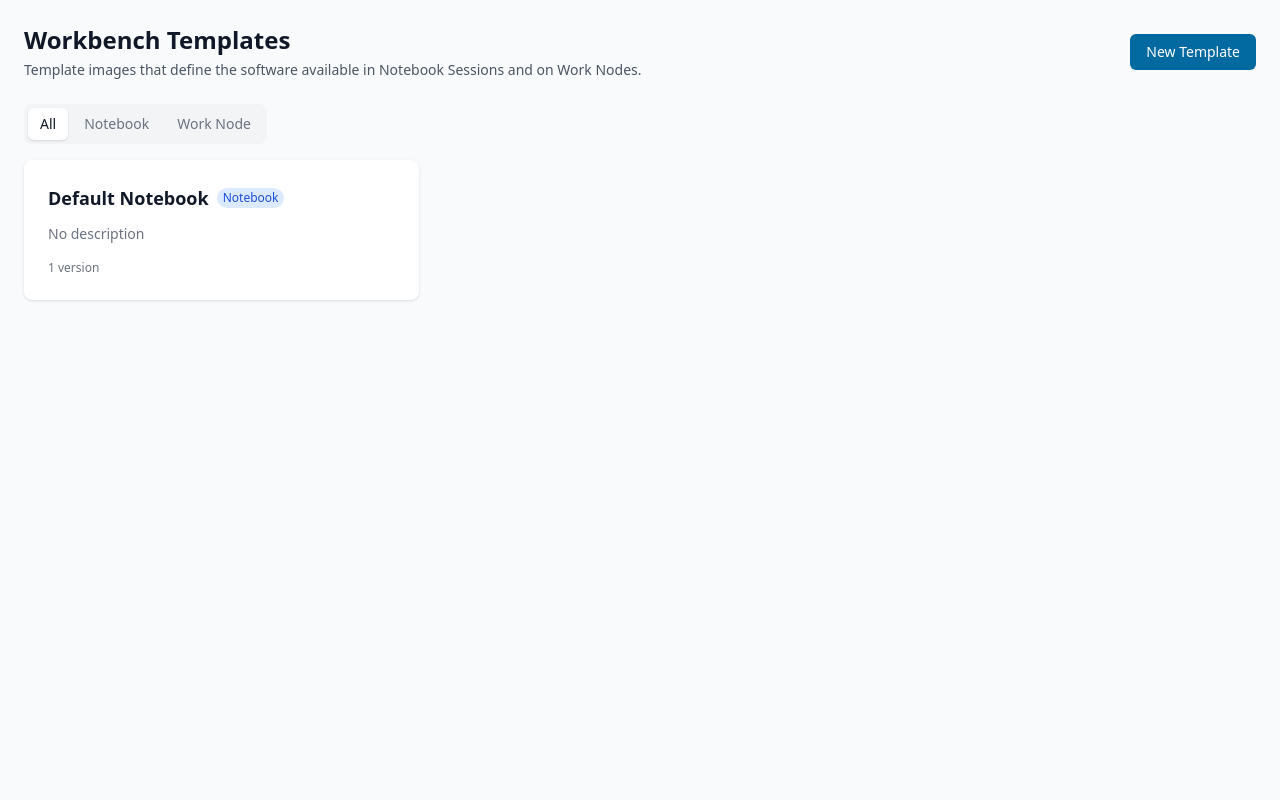
Test: Workbench EnvironmentsPage rebuild when the template cannot be read › a template that really did change still reads as changed, and builds
Step 1. Click the heading "Default Notebook" → (128, 198), box [48,184,209,212]
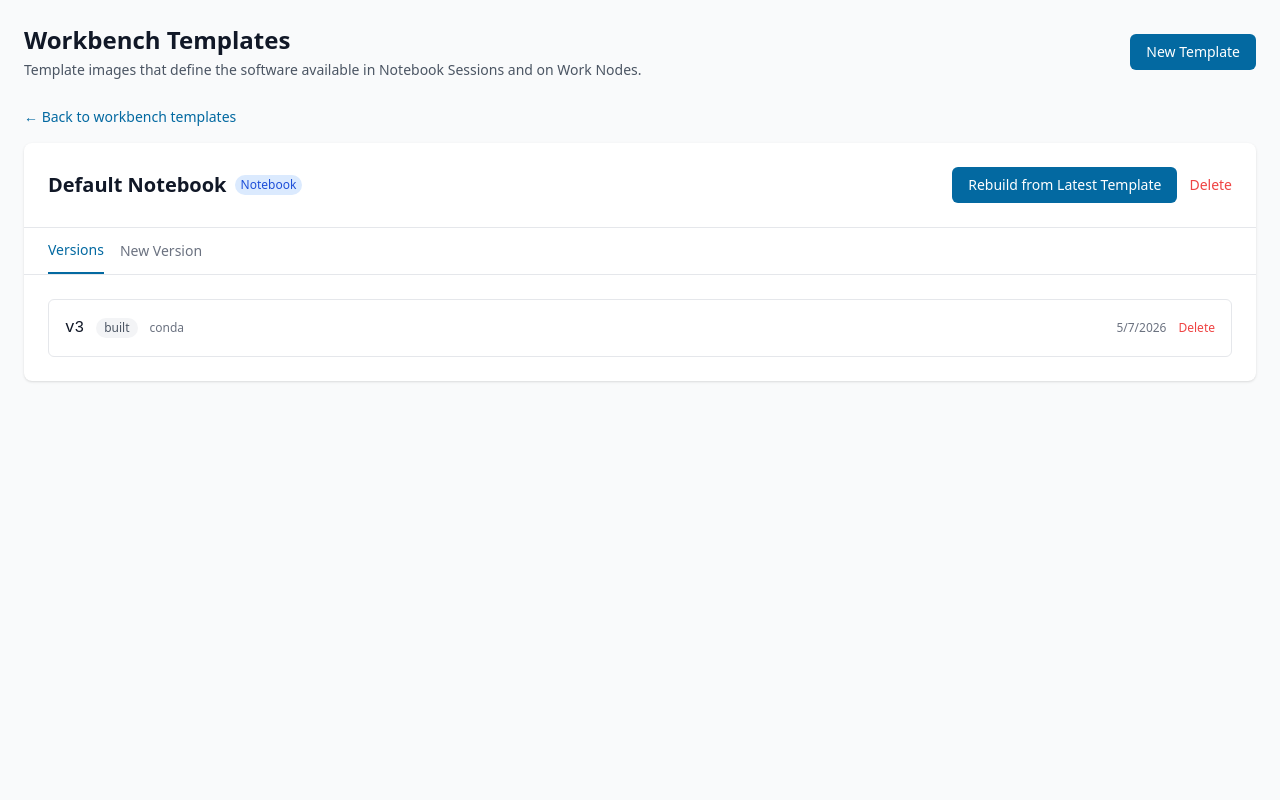
Step 2. Click the button "Rebuild from Latest Template" → (1065, 185), box [952,167,1177,203]
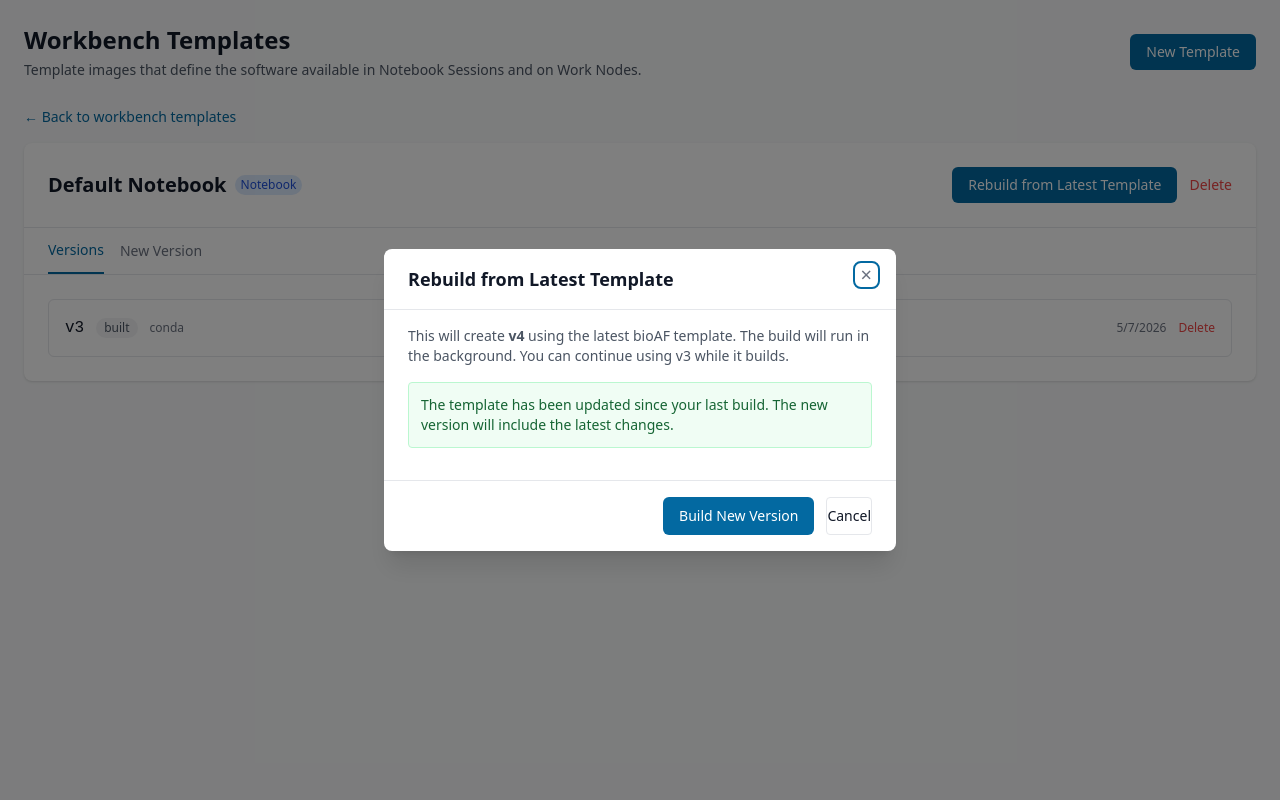
Check: the text "has been updated since your last build" is shown, box [421,395,828,434]
Check: the button "Build New Version" is enabled, box [663,497,814,535]
